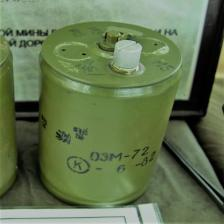OZM-72: (39, 18, 168, 210)
